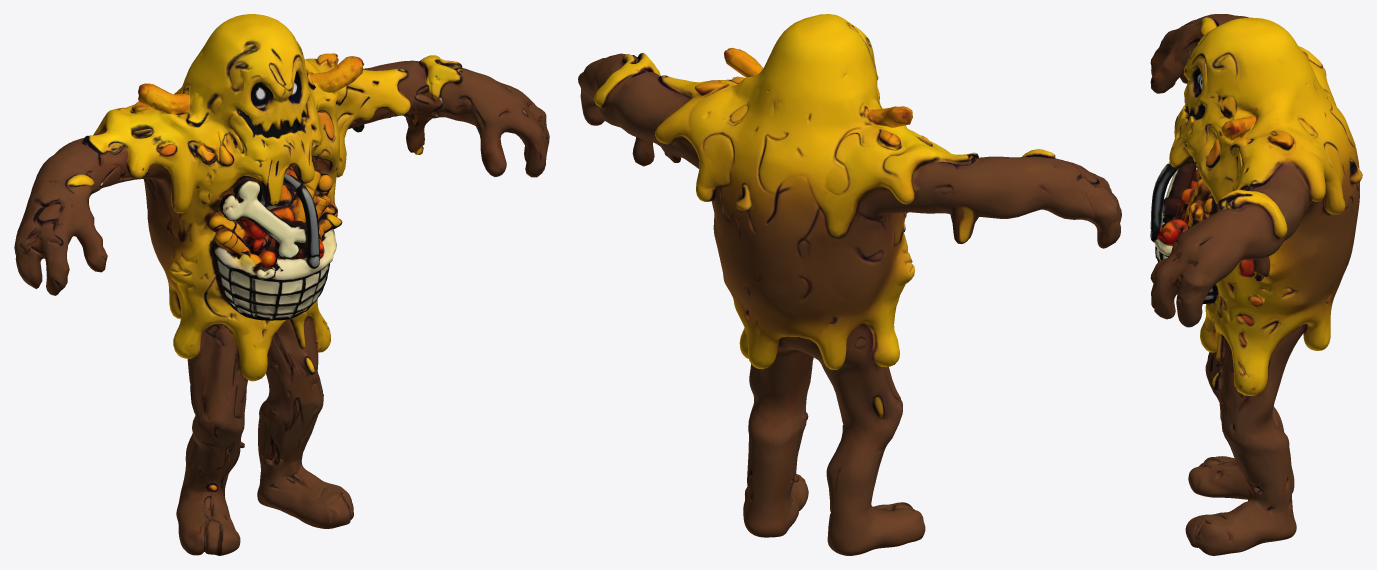
Rendered from grease_golem.glb.
The picture shows the model from 3 angles, left to right: view 1: azimuth 30°, elevation 25°; view 2: azimuth 150°, elevation 25°; view 3: azimuth 270°, elevation 25°; orthographic projection. The views are drawn at different scales.
Parts seen in each view (by area): view 1: grease_golem; view 2: grease_golem; view 3: grease_golem.
Part boxes in pixels (x1,y1,x2,y2): grease_golem: (14,14,549,555); grease_golem: (578,14,1121,555); grease_golem: (1150,14,1362,555).
Bounding box in the file's own units: 2.65 × 2.4 × 0.9327.
1 material, 1 textured.
